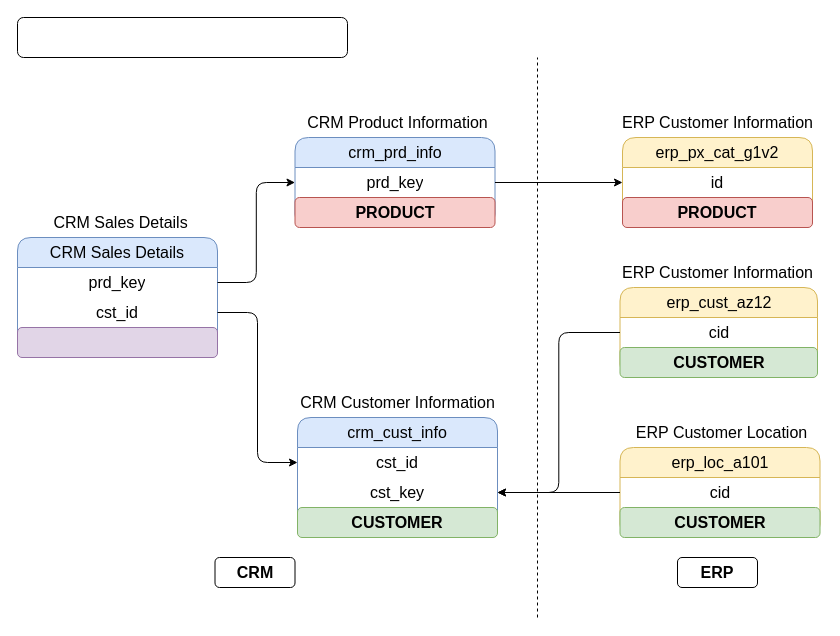
This 840x636 diagram has some shape labels left out. The shapes that lost their labels are listed below. From the top down, each one's centre as x and y in pixels, then its label:
At (182,37): "Data Integration Diagram".
At (117,342): "SALES".
